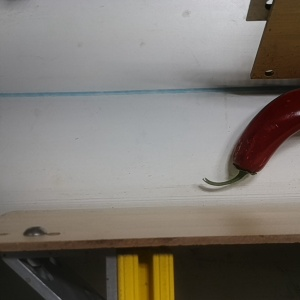Cut Point: (227, 150, 265, 181)
